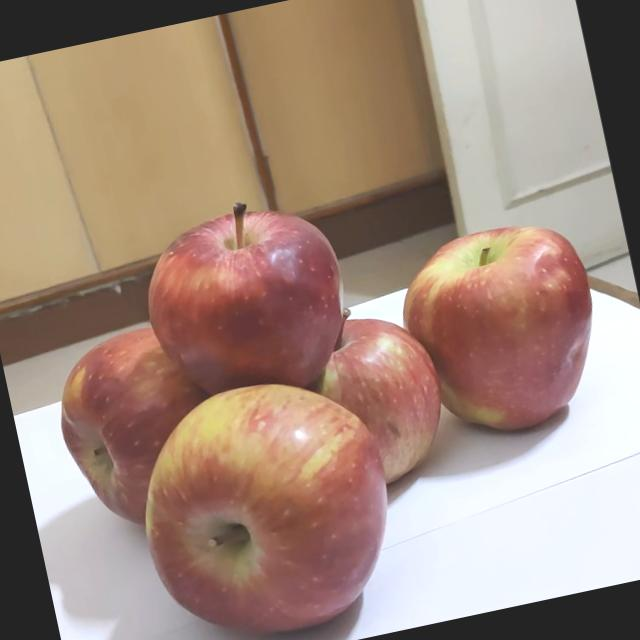apple: (133, 349, 442, 640), (381, 190, 638, 442), (138, 159, 383, 410), (49, 290, 280, 530), (281, 278, 475, 496)
